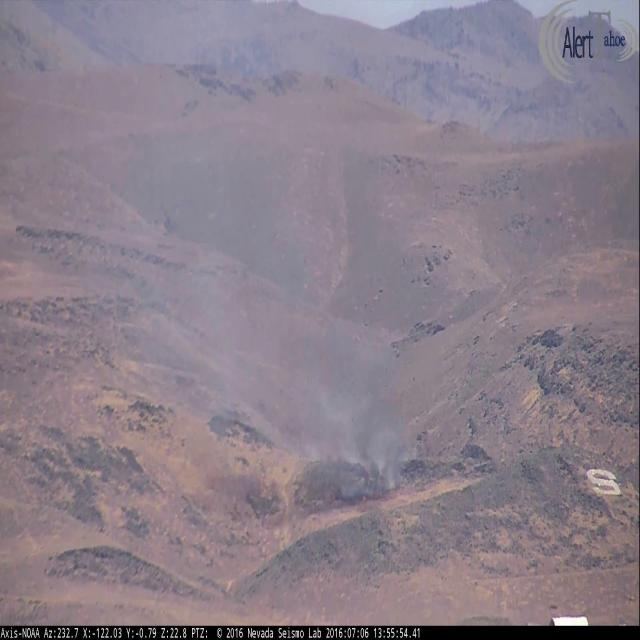smoke: (184, 101, 430, 518)
